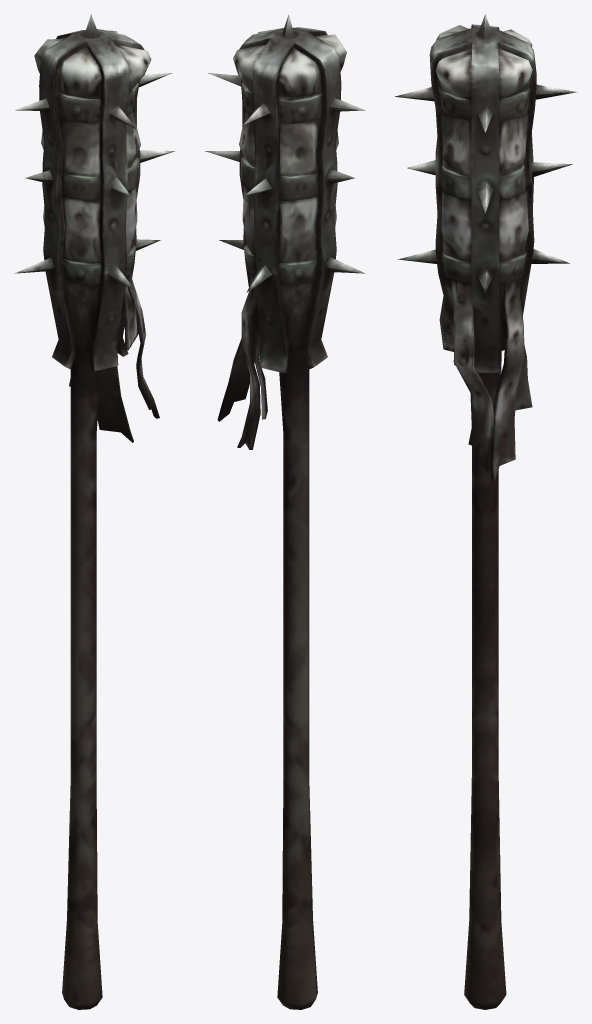
File: weapon-sinner-s-crown.glb
3 renders of one model, left to right at view 1: azimuth 30°, elevation 25°; view 2: azimuth 150°, elevation 25°; view 3: azimuth 270°, elevation 25°, orthographic.
Parts seen in each view (by area): view 1: staff2hG_MDL_q; view 2: staff2hG_MDL_q; view 3: staff2hG_MDL_q.
Boxes of the visible parts, box(x1,y1,x2,y2) form: staff2hG_MDL_q: box(14, 14, 174, 1009); staff2hG_MDL_q: box(205, 14, 365, 1009); staff2hG_MDL_q: box(395, 14, 577, 1009).
Bounding box in the file's own units: 0.3787 × 2.22 × 0.3697.
Materials: 1 (1 with a texture image).
